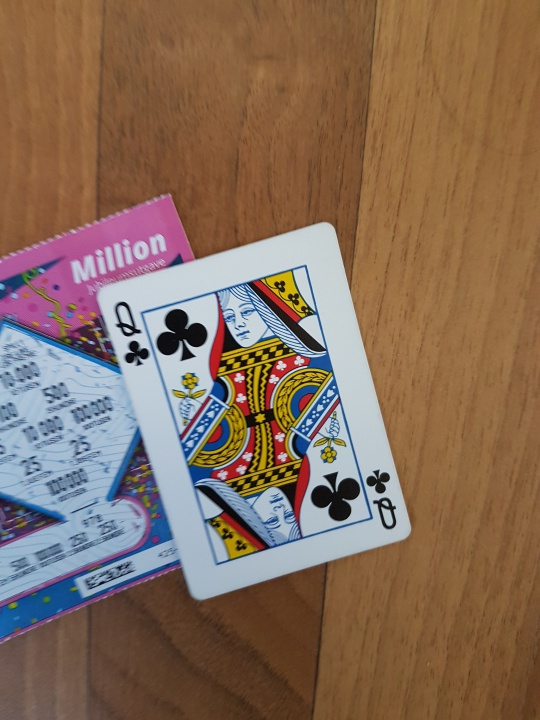queen: (85, 218, 426, 603)
